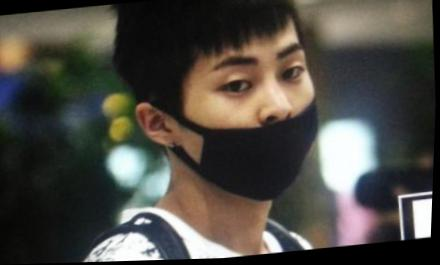WRONG: (172, 43, 324, 193)
